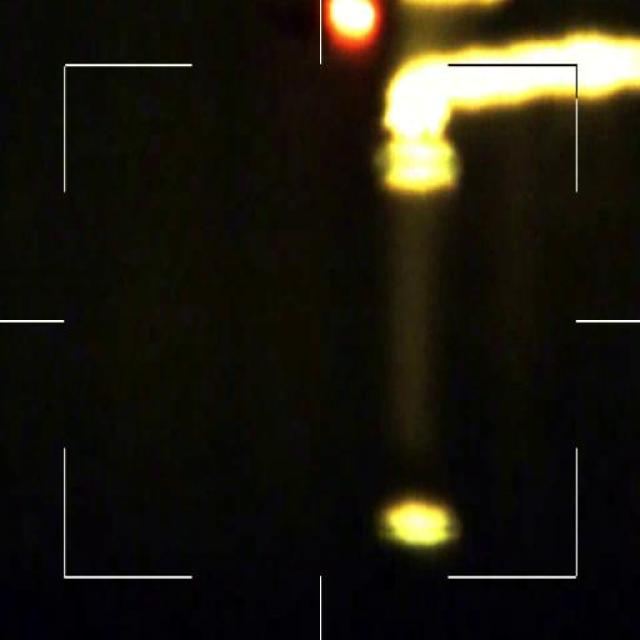bird: (321, 0, 380, 48)
